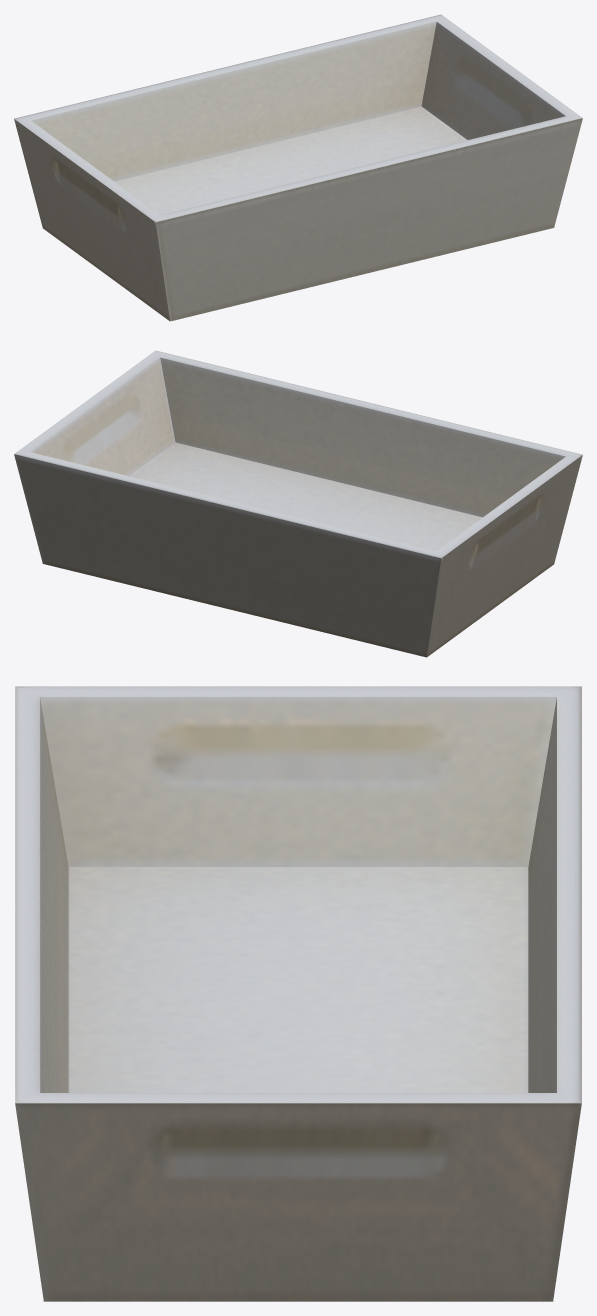
File: ovendish01.fbx
3 views of the same model, one above another, from view 1: azimuth 30°, elevation 25°; view 2: azimuth 150°, elevation 25°; view 3: azimuth 270°, elevation 25° (orthographic). The views are drawn at different scales.
Visible parts, largest first — view 1: Cube.001; view 2: Cube.001; view 3: Cube.001.
Part boxes in pixels (left/top/right/bottom): Cube.001: left=14, top=14, right=582, bottom=321; Cube.001: left=14, top=350, right=582, bottom=657; Cube.001: left=15, top=686, right=581, bottom=1301.
Bounding box in the file's own units: 0.4409 × 0.2532 × 0.1081.
Materials: 1 (1 with a texture image).
